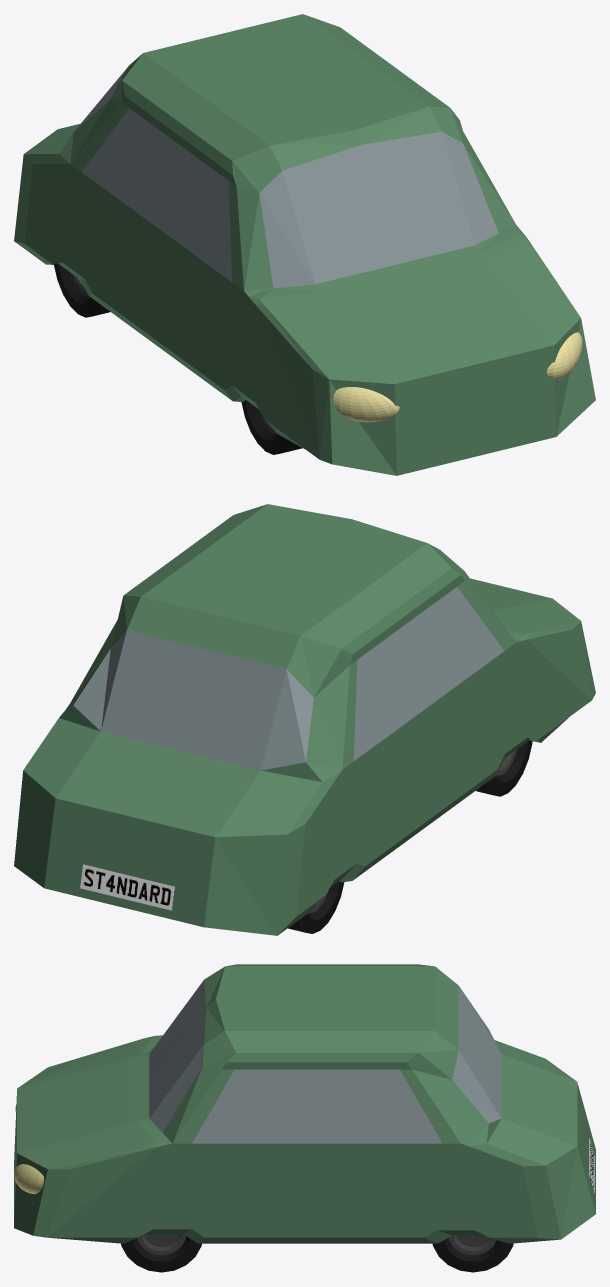
Rendered from car 4.fbx.
3 renders of one model, top to bottom at view 1: azimuth 30°, elevation 25°; view 2: azimuth 150°, elevation 25°; view 3: azimuth 270°, elevation 25°, orthographic. The views are drawn at different scales.
Parts seen in each view (by area): view 1: pSphere3; view 2: pSphere3; view 3: pSphere3.
Part boxes in pixels (x1,y1,x2,y2): pSphere3: (14,14,595,475); pSphere3: (14,504,595,935); pSphere3: (14,964,595,1272).
Bounding box in the file's own units: 2.27 × 2.13 × 5.06.
